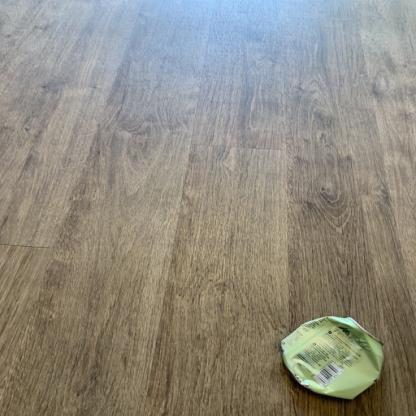trash: (270, 296, 392, 404)
